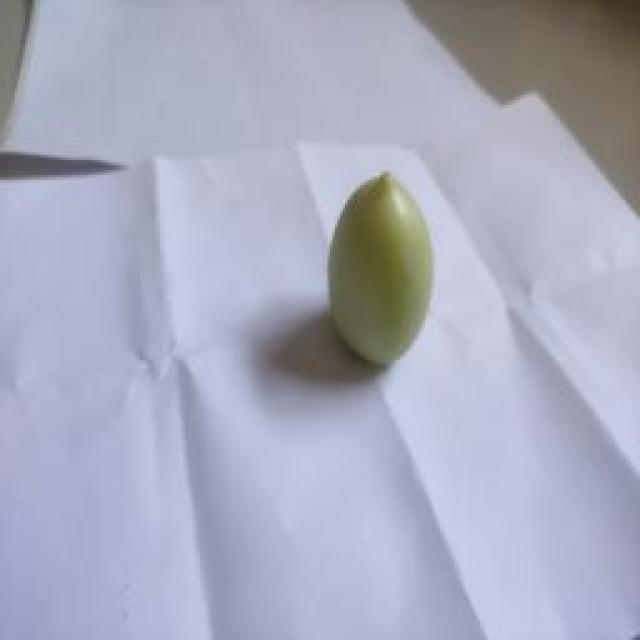unripe tomato: (327, 172, 435, 366)
